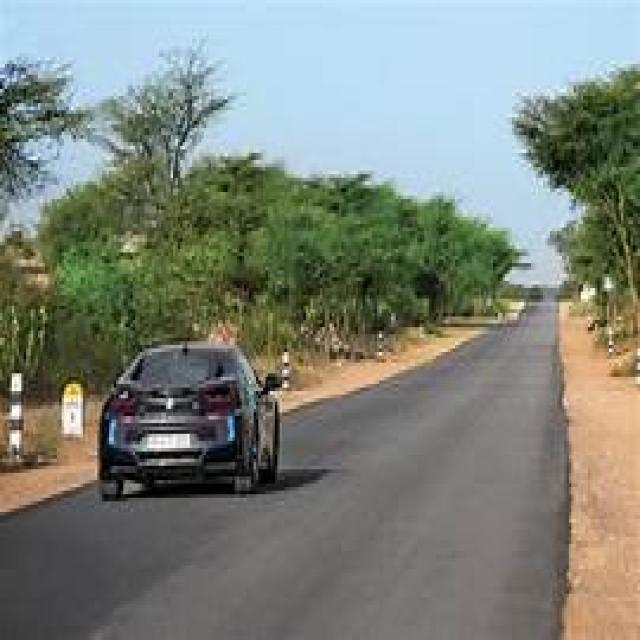Car: (100, 345, 279, 498)
